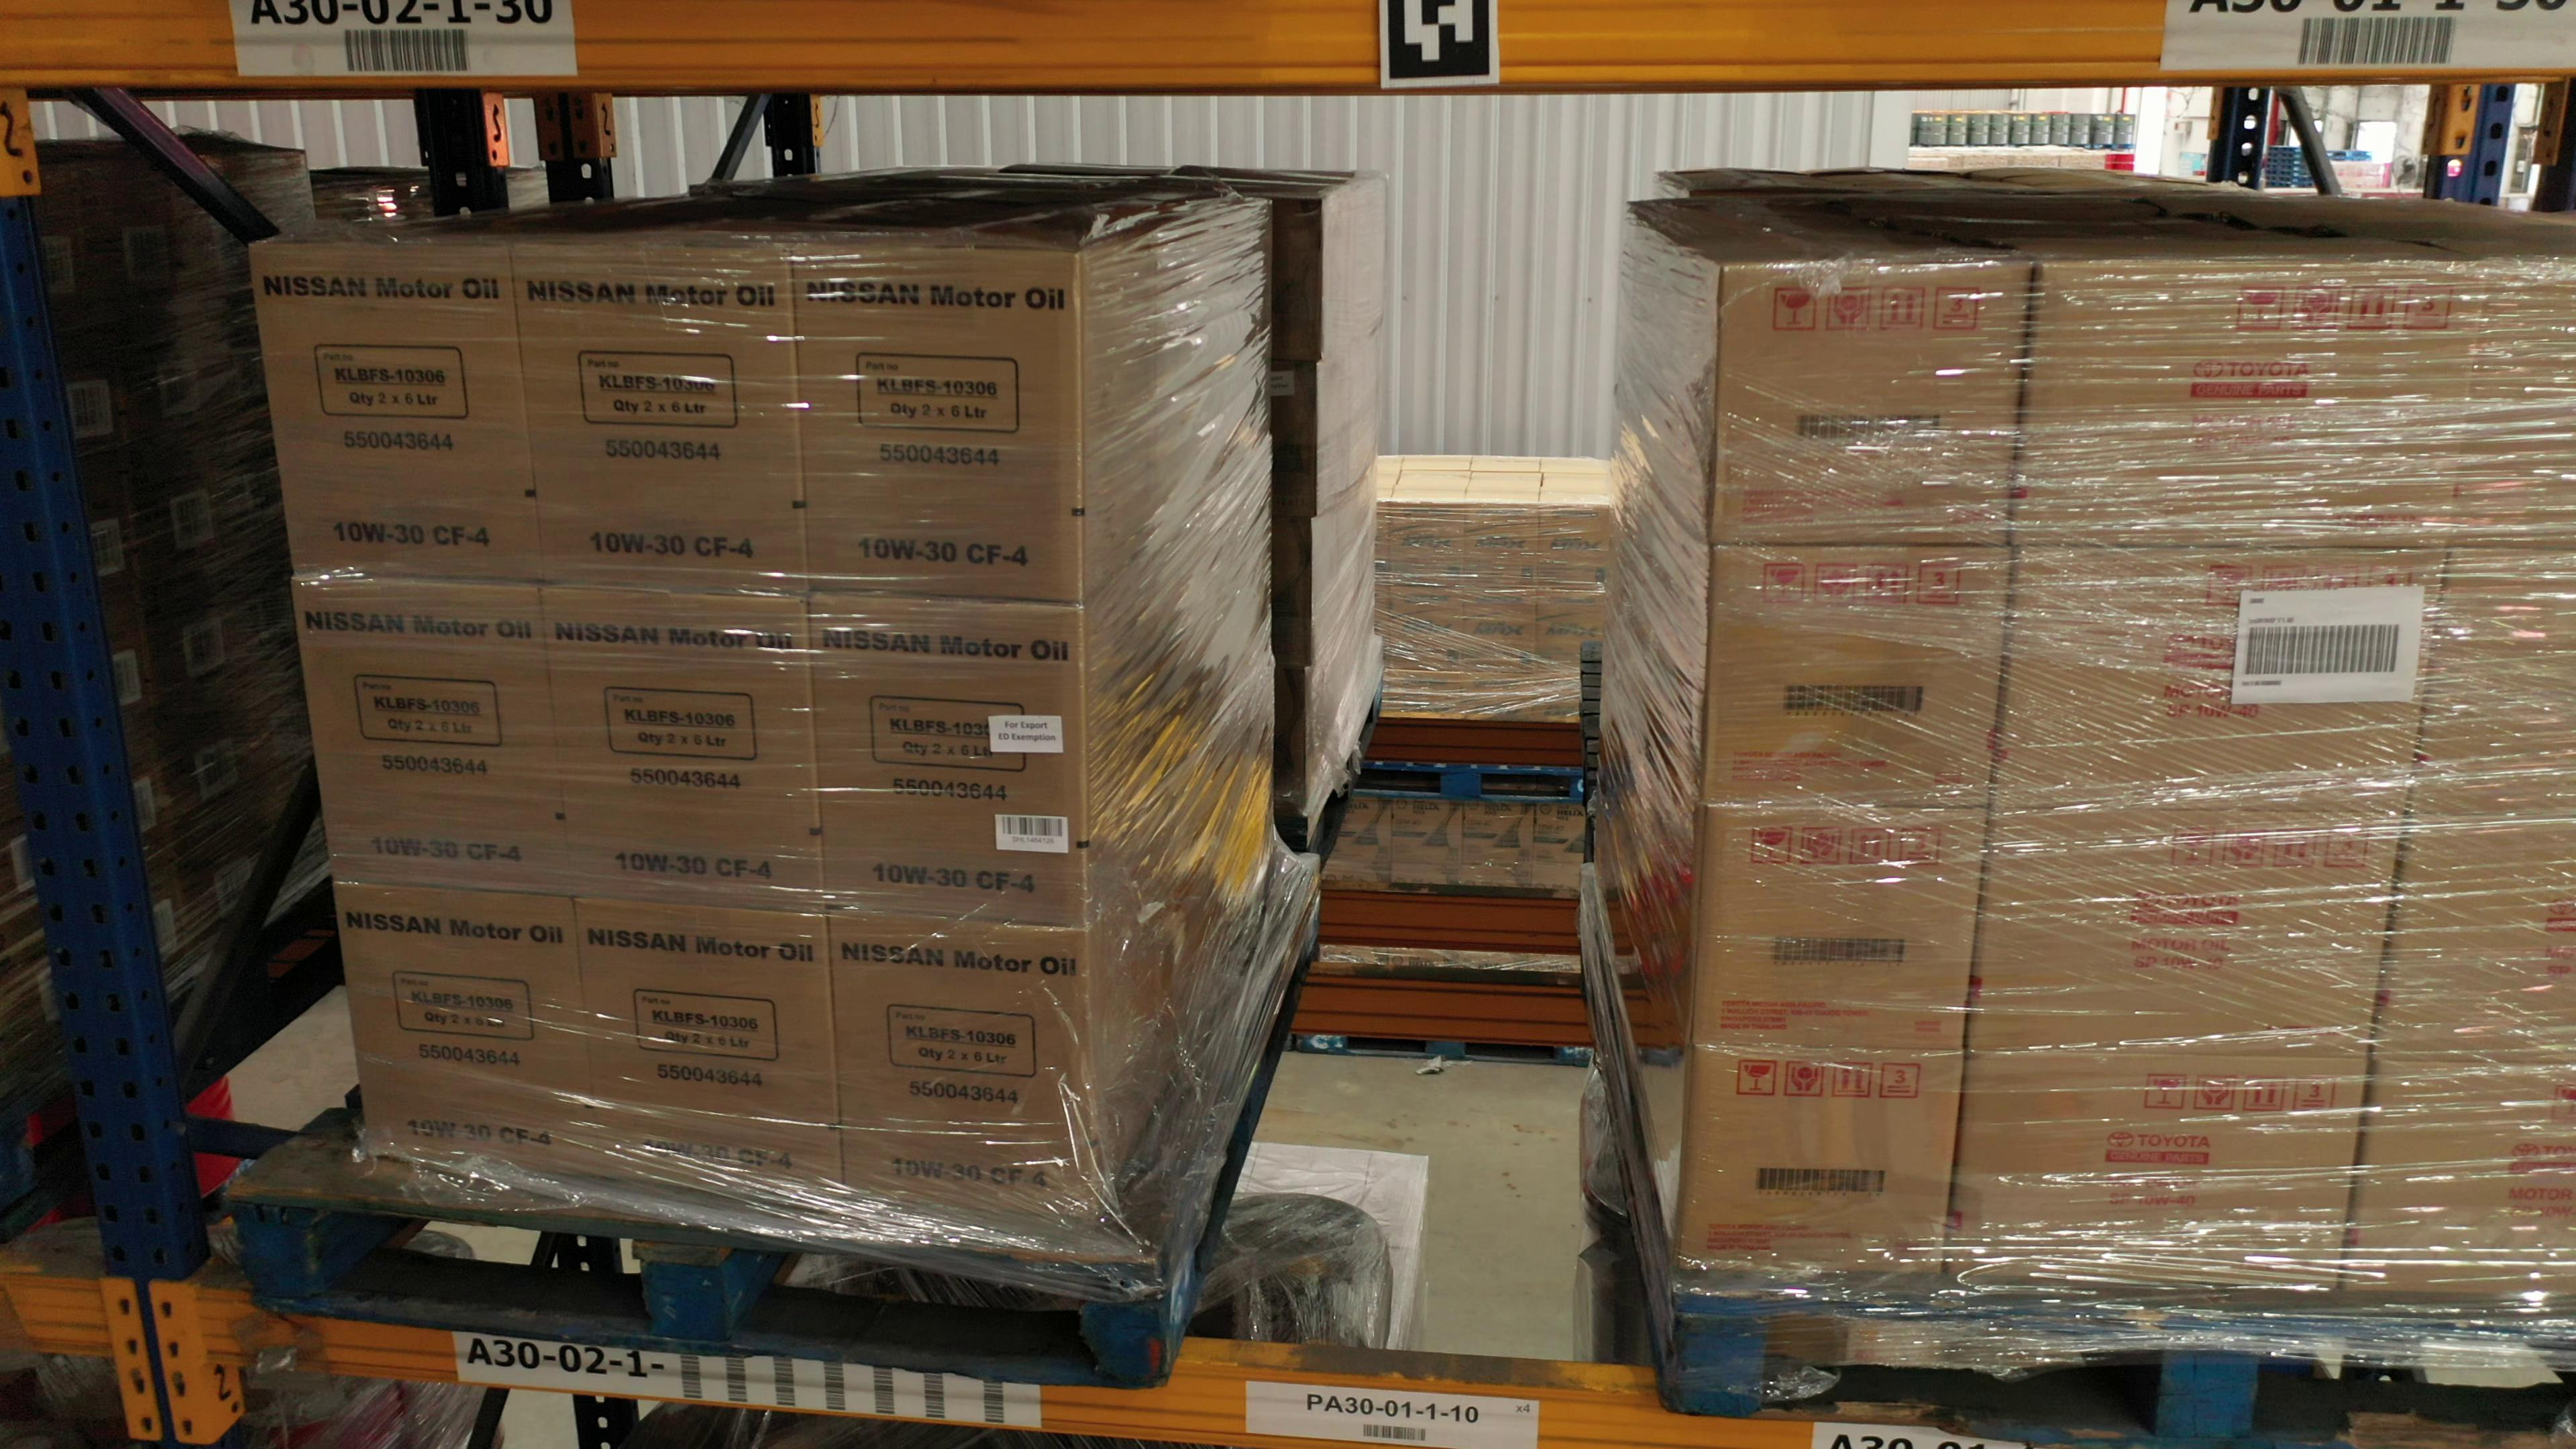-: (2015, 264, 2489, 552), (1990, 543, 2447, 810), (1969, 810, 2406, 1062), (515, 239, 812, 600), (791, 244, 1086, 603), (1943, 1053, 2367, 1295), (248, 239, 543, 586), (543, 584, 828, 916), (1709, 262, 2036, 550), (812, 593, 1086, 931), (294, 570, 573, 897), (573, 892, 840, 1205), (1702, 543, 2010, 812), (830, 915, 1095, 1226), (333, 876, 602, 1178), (1688, 805, 1989, 1056), (1675, 1047, 1966, 1277), (2346, 1056, 2576, 1299), (2373, 812, 2576, 1062), (2413, 545, 2576, 821), (2449, 260, 2576, 548)
